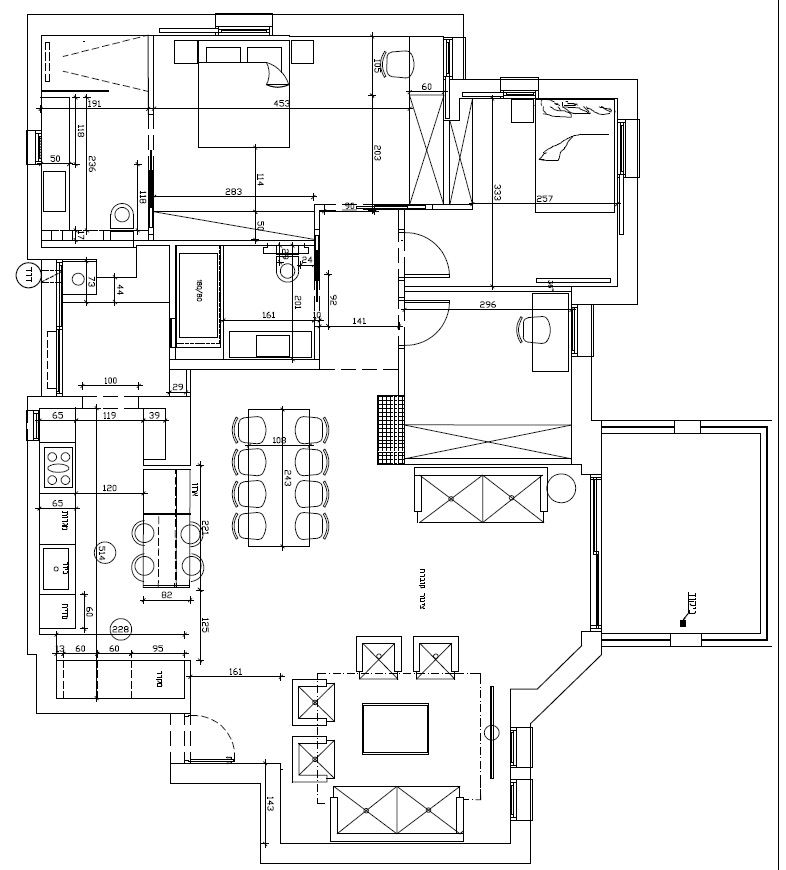door: (408, 228, 460, 284), (408, 296, 455, 347)
window: (588, 473, 605, 631), (214, 24, 272, 39), (616, 118, 627, 177), (505, 726, 520, 768), (505, 778, 520, 820), (442, 36, 453, 78), (503, 90, 536, 99), (32, 409, 40, 441)
